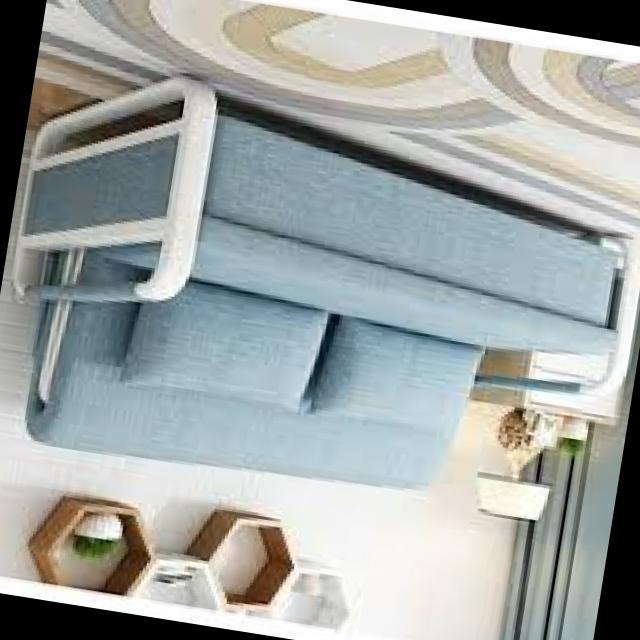Sofa: (0, 36, 640, 546)
